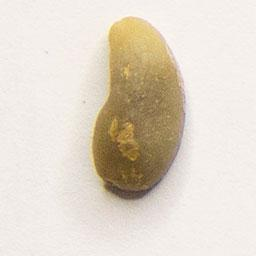longberry: (87, 12, 190, 197)
